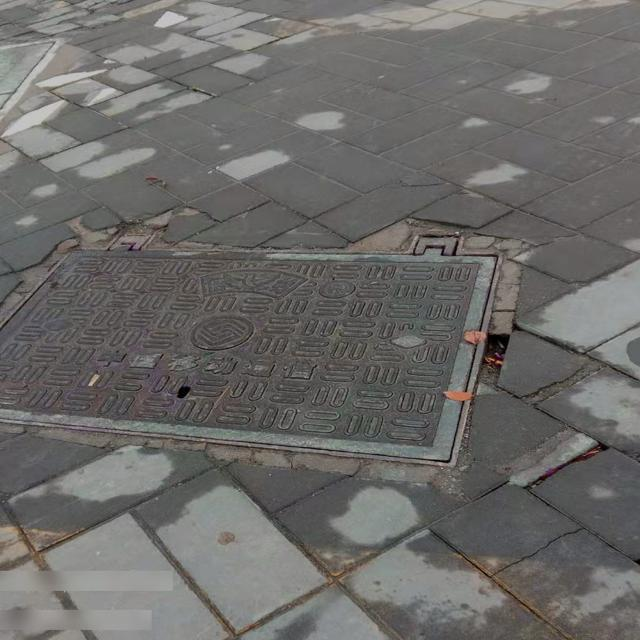good: (0, 235, 500, 468), (0, 36, 60, 167)
